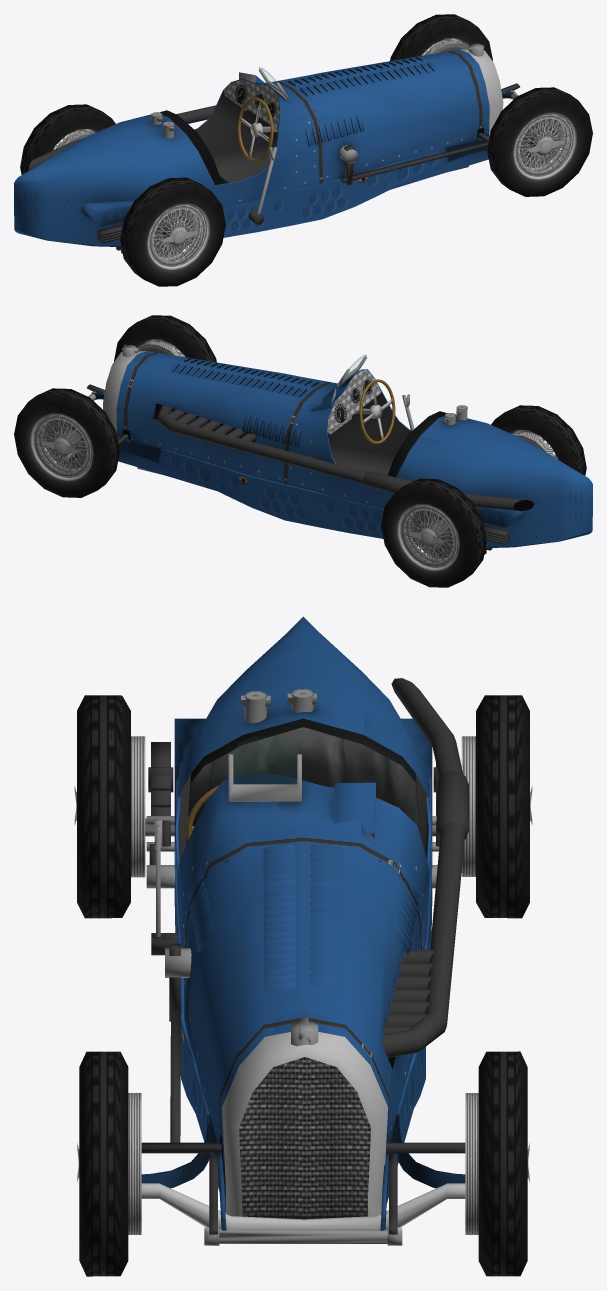
Rendered from sd-36gp-ettore-t59.glb.
3 renders of one model, top to bottom at view 1: azimuth 30°, elevation 25°; view 2: azimuth 150°, elevation 25°; view 3: azimuth 270°, elevation 25°, orthographic. The views are drawn at different scales.
Parts seen in each view (by area): view 1: detail_0, paint_1, Tire_RearRight_14, Tire_FrontRight_10, Rim_FrontRight_9, Rim_RearRight_13, Tire_RearLeft_12, Tire_FrontLeft_8, gp_instrument_DASH_s_0_2, gp_steering_OBJECT_s_0_6, Rim_FrontLeft_7, gp_steering_WHEEL_s_8_4; view 2: detail_0, paint_1, Tire_RearLeft_12, Tire_FrontLeft_8, Rim_FrontLeft_7, Tire_RearRight_14, Rim_RearLeft_11, Tire_FrontRight_10, gp_instrument_DASH_s_0_2, gp_steering_OBJECT_s_0_6, Rim_FrontRight_9, Rim_RearRight_13 (+1 smaller); view 3: detail_0, paint_1, Tire_RearRight_14, Tire_RearLeft_12, Tire_FrontLeft_8, Tire_FrontRight_10, Rim_RearRight_13, Rim_FrontLeft_7, Rim_FrontRight_9, Rim_RearLeft_11.
Boxes of the visible parts, box(x1,y1,x2,y2) form: detail_0: box(14, 43, 544, 253); paint_1: box(160, 57, 438, 185); Tire_RearRight_14: box(120, 177, 225, 286); Tire_FrontRight_10: box(487, 87, 592, 196); Rim_FrontRight_9: box(515, 114, 572, 175); Rim_RearRight_13: box(148, 205, 205, 265); Tire_RearLeft_12: box(20, 104, 115, 174); Tire_FrontLeft_8: box(390, 14, 492, 60); gp_instrument_DASH_s_0_2: box(223, 79, 279, 129); gp_steering_OBJECT_s_0_6: box(237, 97, 273, 162); Rim_FrontLeft_7: box(421, 38, 469, 55); gp_steering_WHEEL_s_8_4: box(240, 102, 269, 157); detail_0: box(63, 344, 592, 554); paint_1: box(153, 358, 446, 477); Tire_RearLeft_12: box(381, 478, 486, 587); Tire_FrontLeft_8: box(14, 388, 119, 497); Rim_FrontLeft_7: box(33, 415, 91, 476); Tire_RearRight_14: box(491, 405, 586, 475); Rim_RearLeft_11: box(400, 506, 457, 566); Tire_FrontRight_10: box(114, 315, 216, 362); gp_instrument_DASH_s_0_2: box(327, 370, 381, 434); gp_steering_OBJECT_s_0_6: box(359, 379, 395, 443); Rim_FrontRight_9: box(136, 339, 185, 357); Rim_RearRight_13: box(510, 430, 557, 459); detail_0: box(141, 616, 469, 1245); paint_1: box(175, 718, 431, 1068); Tire_RearRight_14: box(77, 695, 130, 918); Tire_RearLeft_12: box(476, 695, 529, 918); Tire_FrontLeft_8: box(478, 1051, 527, 1276); Tire_FrontRight_10: box(79, 1051, 128, 1276); Rim_RearRight_13: box(74, 736, 145, 877); Rim_FrontLeft_7: box(465, 1093, 529, 1234); Rim_FrontRight_9: box(77, 1093, 141, 1234); Rim_RearLeft_11: box(461, 736, 532, 876).
Bounding box in the file's own units: 4.46 × 1.22 × 1.67.
5 materials, 5 textured.
